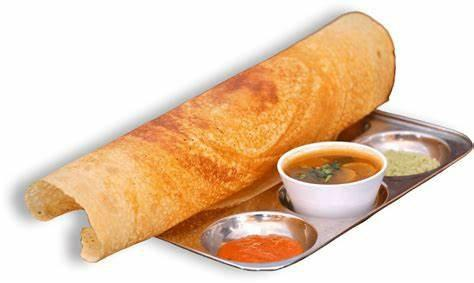CoconutChutney: (378, 150, 440, 176)
Dosa: (25, 12, 396, 262)
